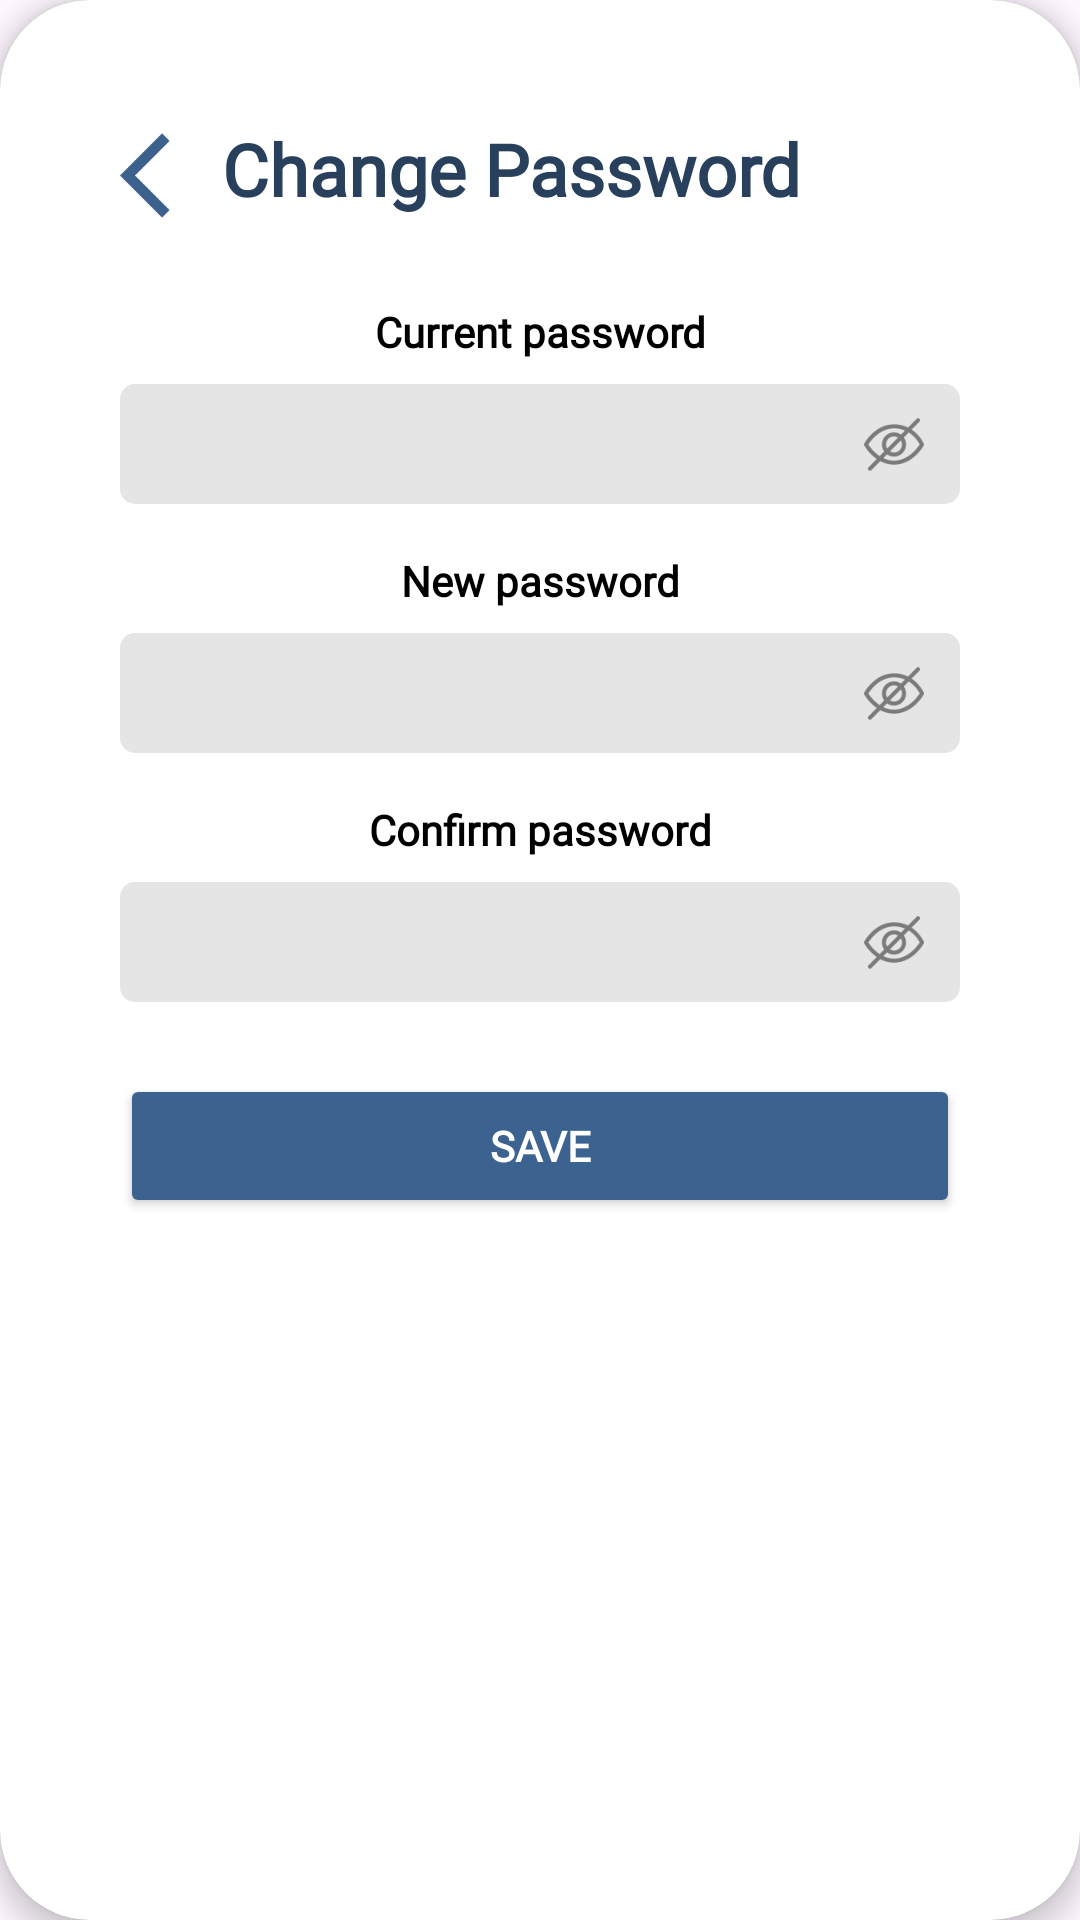

Icon click points for this 1080px×1920px phone screenshot, format point (x, y):
arrow back: point (145, 175)
